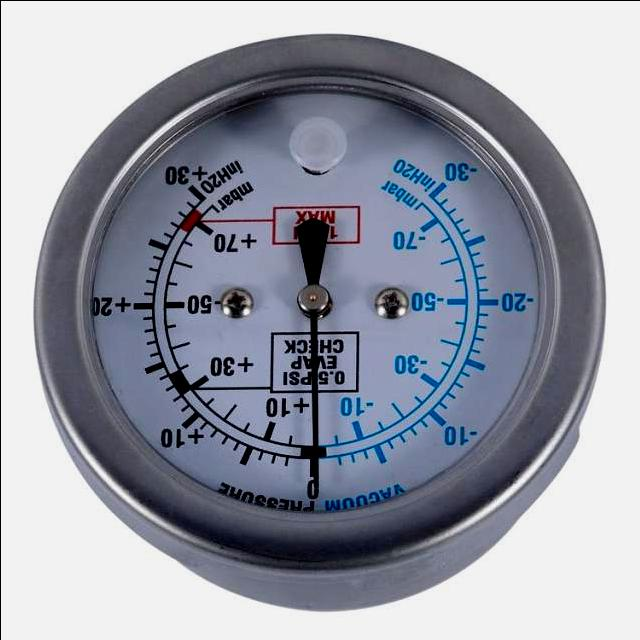Needle_Tip: (288, 415, 341, 476)
Needle_base: (275, 277, 349, 324)
max_value: (149, 139, 229, 191)
min_value: (379, 150, 515, 191)
